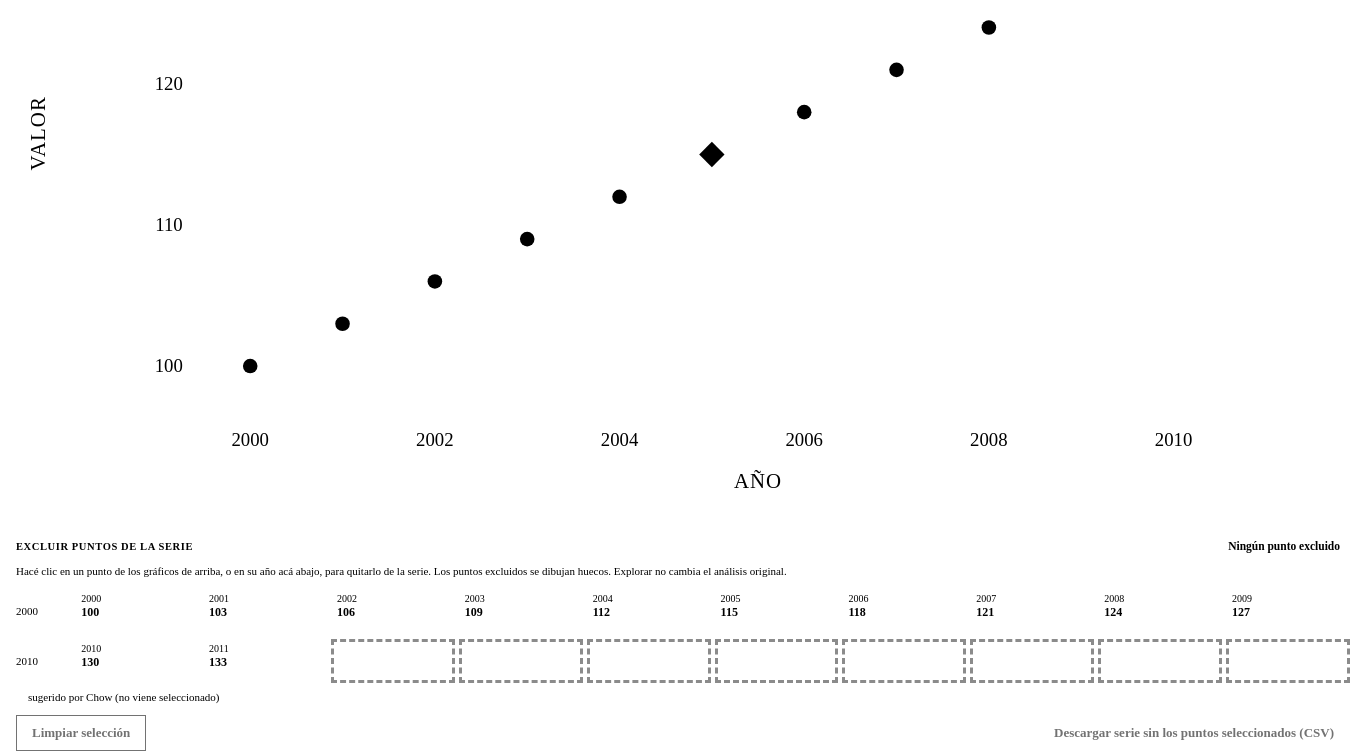
Test: Etapa1GraficosView — exclusión de puntos › quedarían menos de 10 datos
(page scrolled)
Click the button "2000 100". click: coordinates (137, 611)
box: [75,589,199,633]
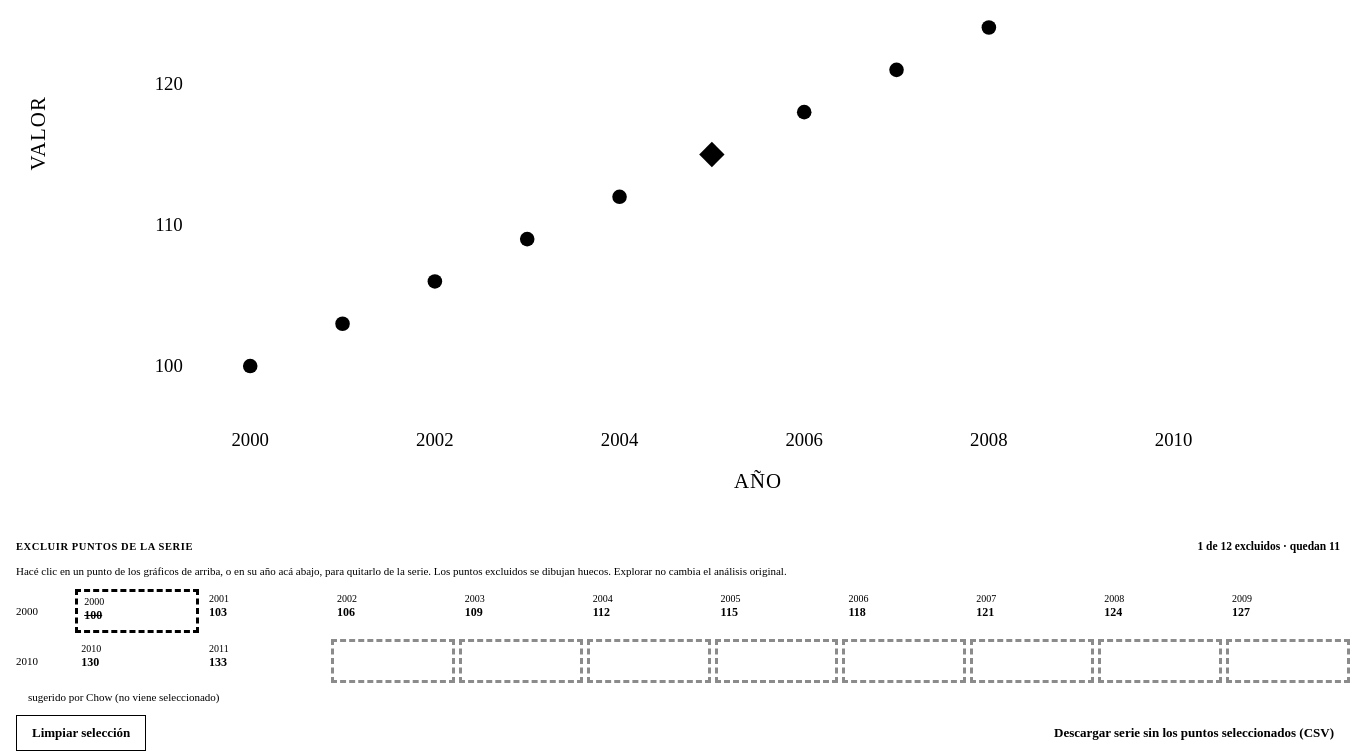
Click the button "2001 103". click: coordinates (265, 611)
box: [203,589,327,633]
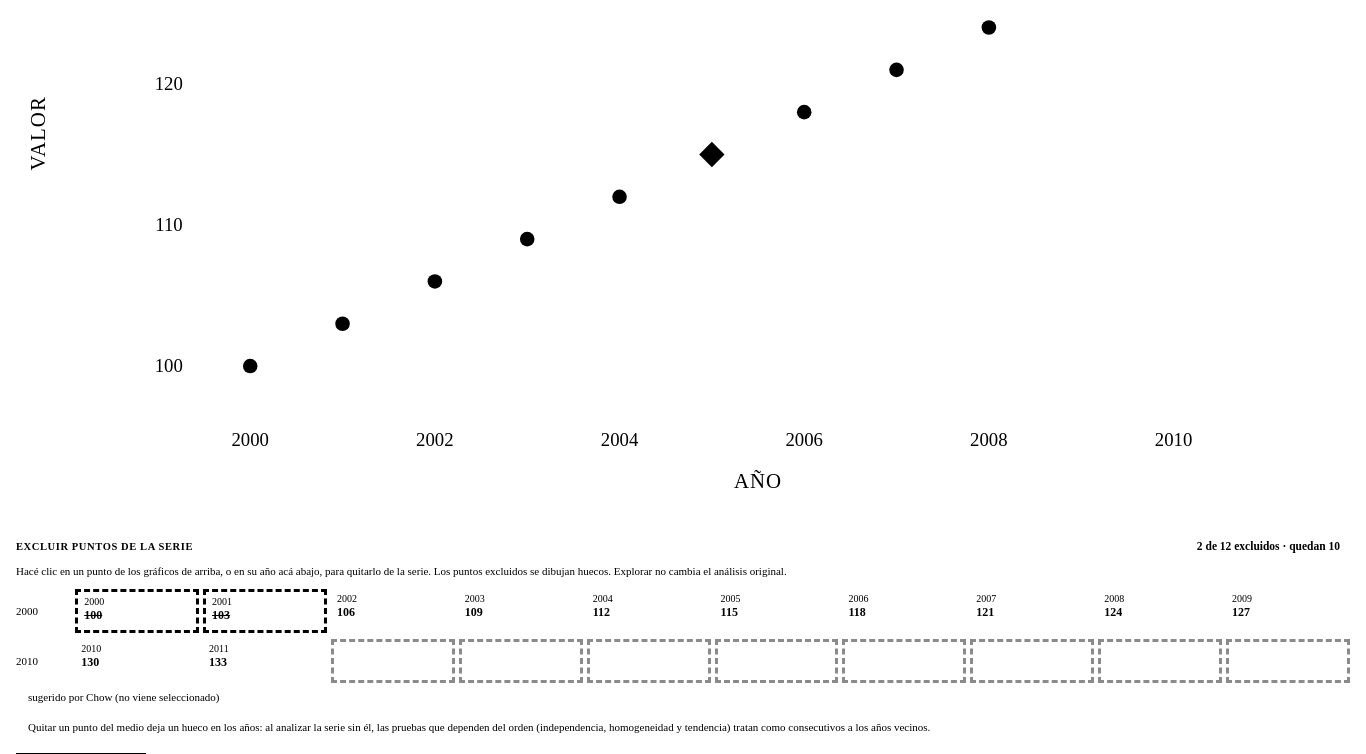
Click the button "2002 106". click: coordinates (393, 611)
box: [331,589,455,633]
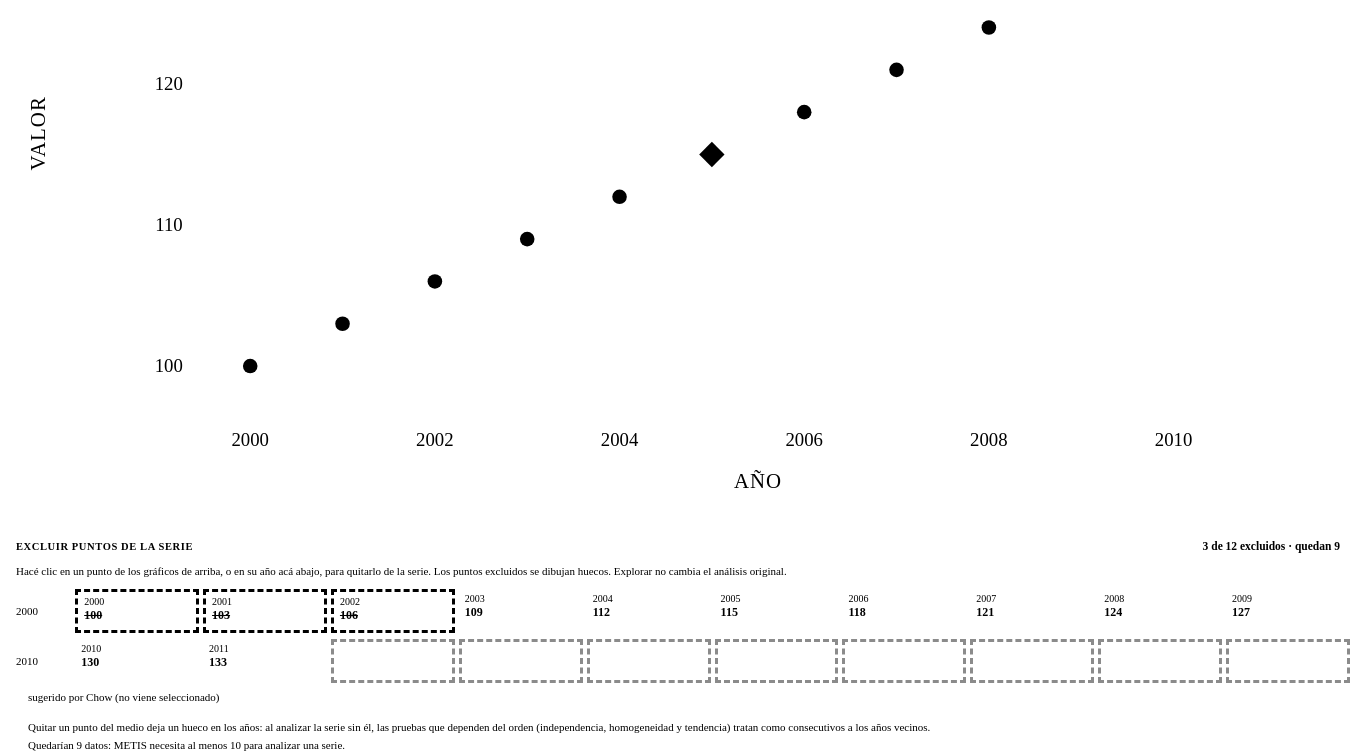
Expected: the text "Quedarían 9 datos" is shown, [28,739,345,751]
